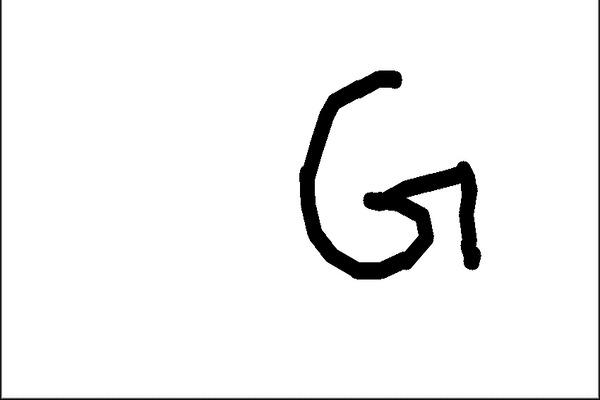G: (294, 62, 487, 283)
